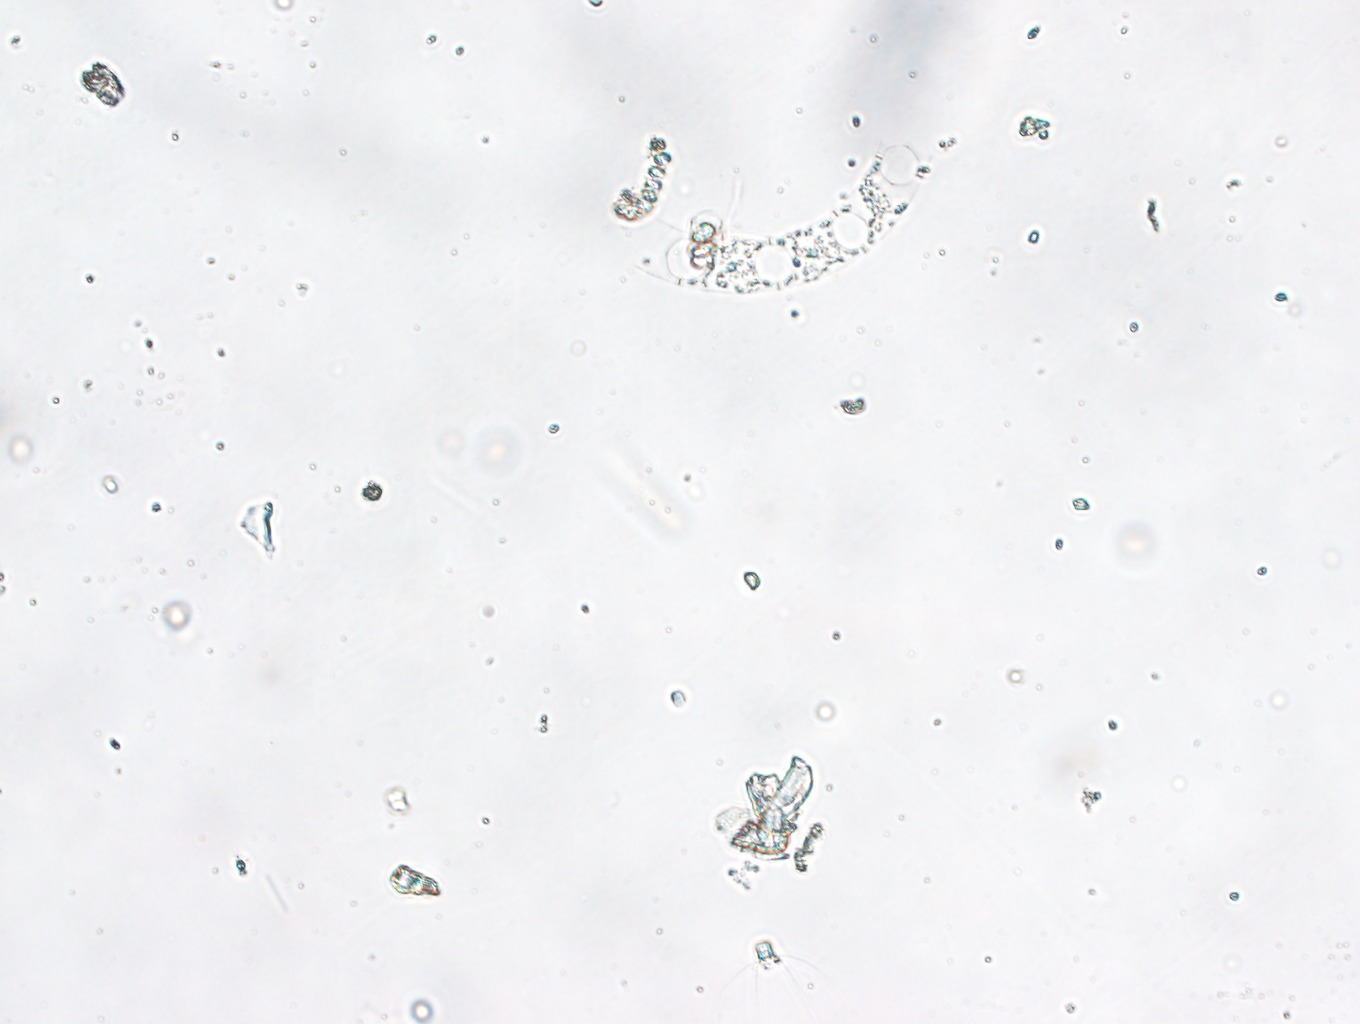eucampia: (622, 148, 954, 305)
